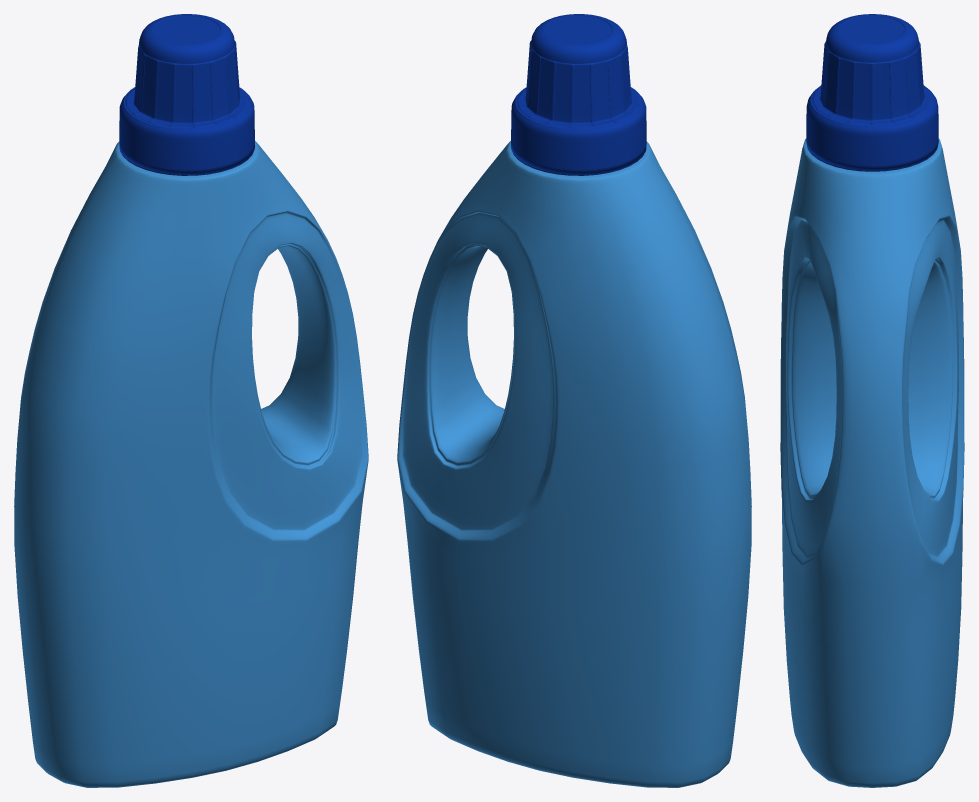
Rendered from detersivo_1.fbx.
3 renders of one model, left to right at view 1: azimuth 30°, elevation 25°; view 2: azimuth 150°, elevation 25°; view 3: azimuth 270°, elevation 25°, orthographic. The views are drawn at different scales.
Parts seen in each view (by area): view 1: detersivo_1; view 2: detersivo_1; view 3: detersivo_1.
Part boxes in pixels (<box>): detersivo_1: <box>14,14,368,787</box>; detersivo_1: <box>397,14,751,787</box>; detersivo_1: <box>780,14,964,787</box>.
Size of the model in its own units: 15.1 by 31.34 by 7.53.
